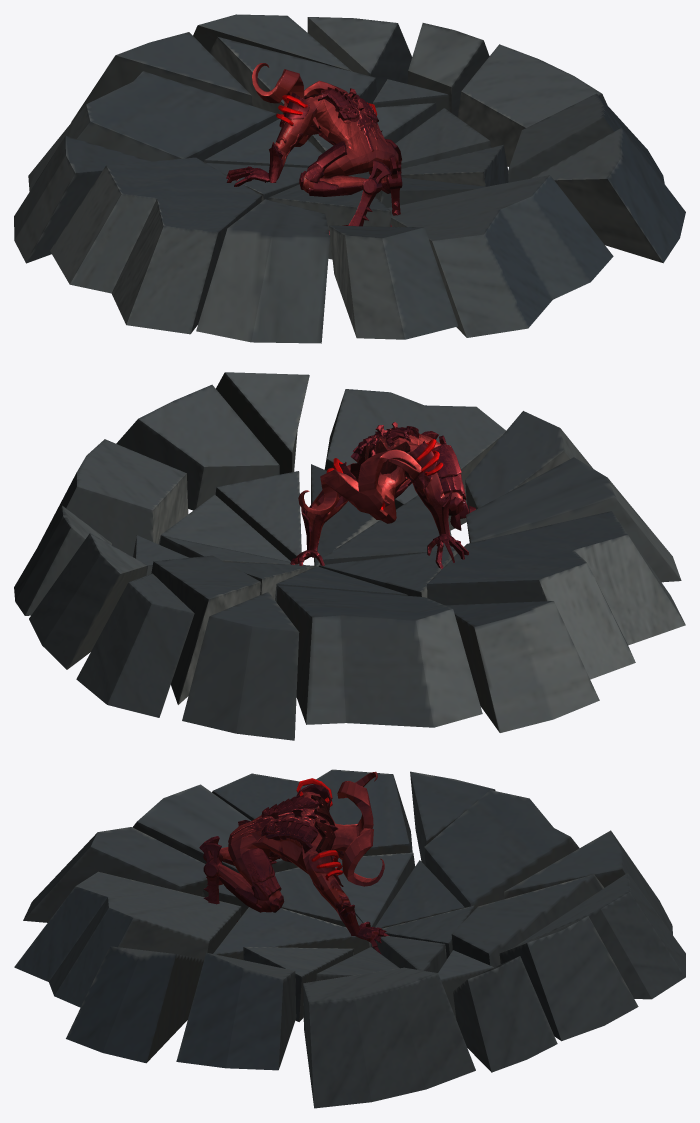
3 views of the same model, one above another, from view 1: azimuth 30°, elevation 25°; view 2: azimuth 150°, elevation 25°; view 3: azimuth 270°, elevation 25° (orthographic). The views are drawn at different scales.
Visible parts, largest first — view 1: Cylinder.007_Cylinder.009, Demon_LOW_Plane.002; view 2: Cylinder.007_Cylinder.009, Demon_LOW_Plane.002; view 3: Cylinder.007_Cylinder.009, Demon_LOW_Plane.002.
Part boxes in pixels (x1,y1,x2,y2): Cylinder.007_Cylinder.009: (14, 14, 685, 343); Demon_LOW_Plane.002: (226, 63, 402, 234); Cylinder.007_Cylinder.009: (14, 372, 685, 740); Demon_LOW_Plane.002: (290, 422, 475, 569); Cylinder.007_Cylinder.009: (14, 769, 685, 1108); Demon_LOW_Plane.002: (199, 771, 389, 954).
Size of the model in its own units: 15.24 by 4.38 by 15.88.
